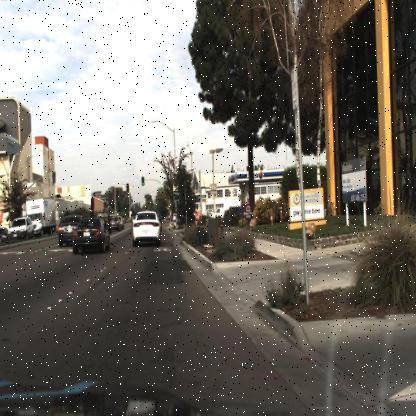car: (69, 214, 112, 259), (130, 207, 164, 247), (57, 210, 84, 250), (8, 216, 33, 238), (105, 210, 121, 236), (210, 201, 226, 224)
trafficLight-Green: (141, 171, 146, 188)
trafficLight-Red: (125, 178, 133, 196), (113, 186, 119, 200)
truck: (30, 196, 58, 238)
